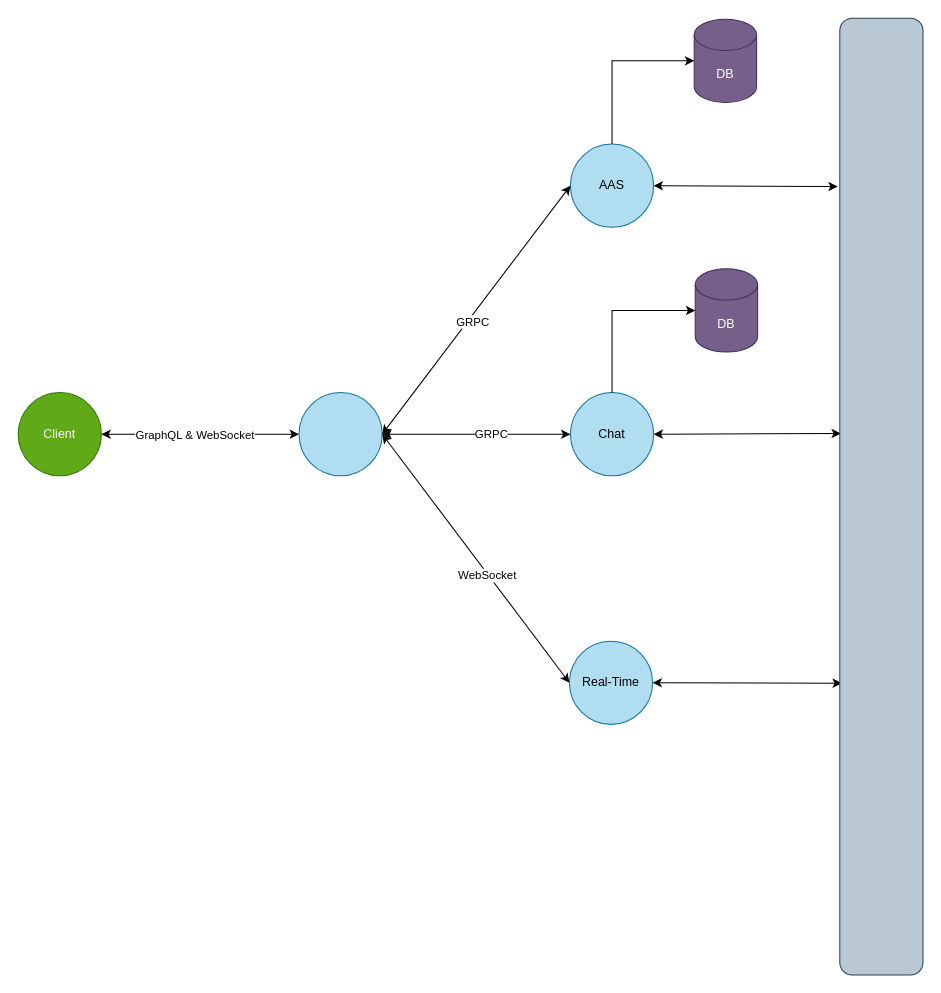
Image size: 941x993. Some labels were removed from this diagram. The box of each missing label's shape, as (x1, y1, x2, y2) in pixels:
Gateway: (298, 392, 382, 476)
Kafka: (839, 17, 923, 975)
